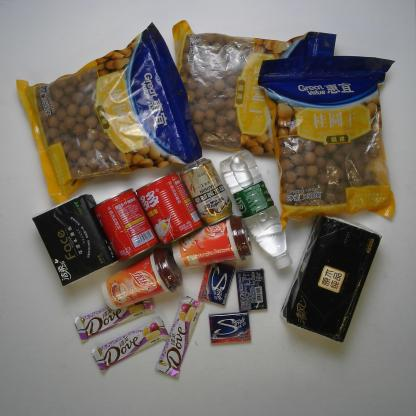Alcohol: (178, 157, 234, 227)
Canned Food: (135, 170, 203, 246), (93, 187, 160, 263)
Chocolate: (91, 314, 170, 372), (154, 294, 205, 379), (74, 297, 155, 340)
Dried Food: (15, 19, 203, 206), (257, 54, 396, 234), (171, 19, 338, 158)
Drink: (219, 150, 293, 270)
Gum: (197, 261, 236, 306), (234, 266, 268, 312), (208, 310, 252, 344)
Instant Drink: (100, 246, 183, 311), (171, 214, 253, 270)
Tissue: (279, 213, 383, 345), (31, 192, 119, 288)
